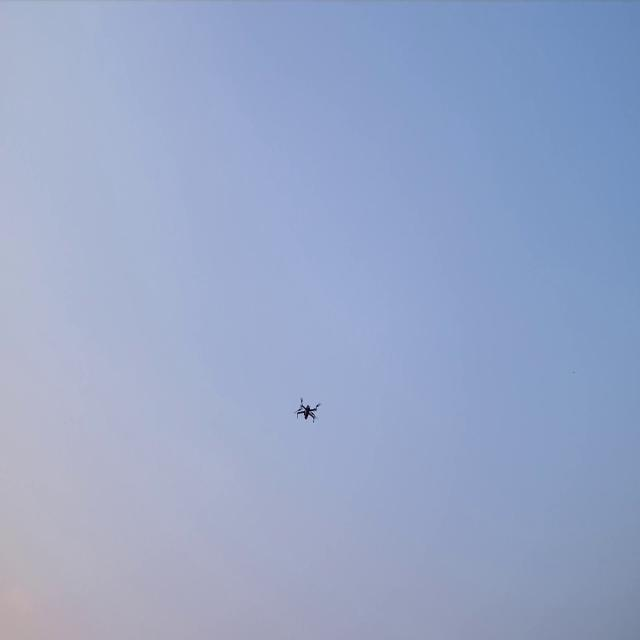UAV: (291, 394, 322, 426)
